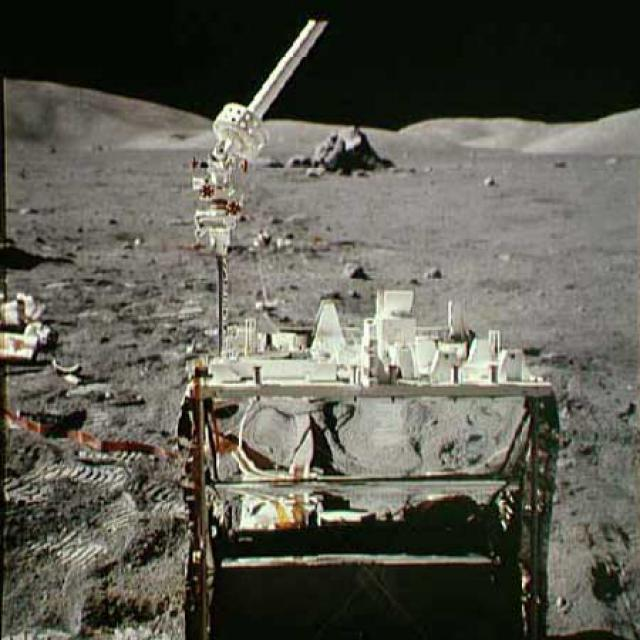artifact: (178, 1, 569, 638), (1, 221, 173, 463)
rock: (316, 118, 396, 180), (286, 151, 315, 173), (338, 256, 365, 278), (254, 156, 284, 170), (420, 263, 444, 280), (480, 172, 496, 186)
